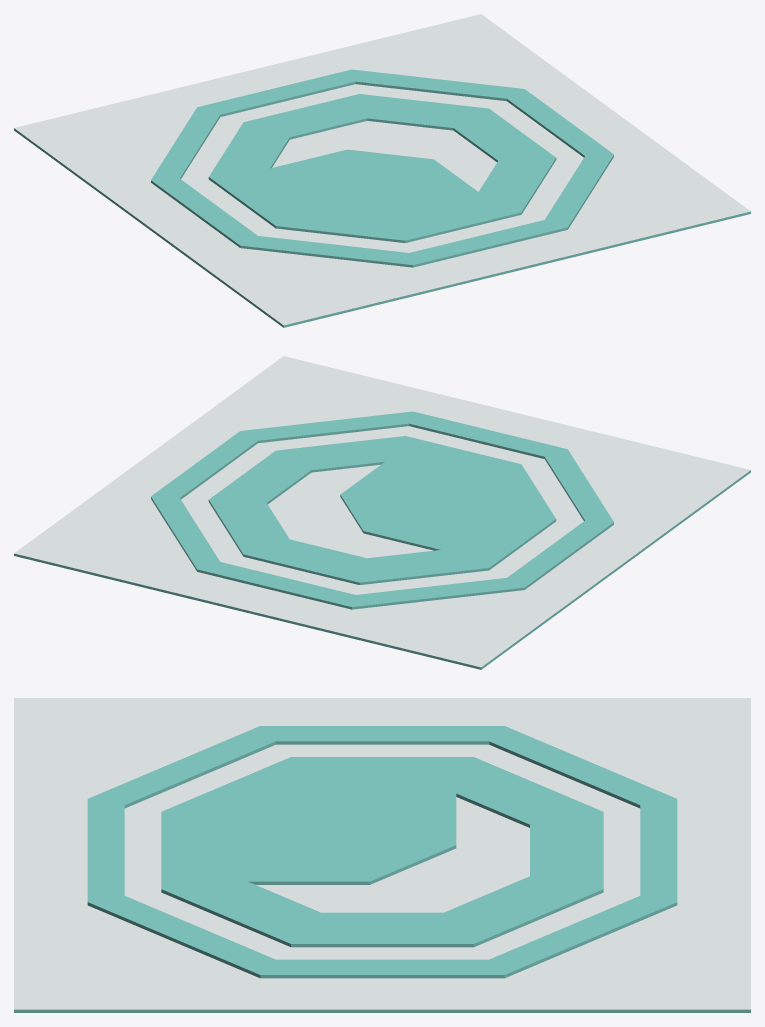
File: Prop_Rug_Moon.glb
3 views of the same model, one above another, from view 1: azimuth 30°, elevation 25°; view 2: azimuth 150°, elevation 25°; view 3: azimuth 270°, elevation 25° (orthographic). The views are drawn at different scales.
Visible parts, largest first — view 1: Prop_Rug_Moon; view 2: Prop_Rug_Moon; view 3: Prop_Rug_Moon.
Boxes of the visible parts, x1,y1,x2,y2 form: Prop_Rug_Moon: (14, 14, 750, 327); Prop_Rug_Moon: (14, 356, 750, 669); Prop_Rug_Moon: (14, 698, 750, 1012).
Bounding box in the file's own units: 1 × 0.01 × 1.
